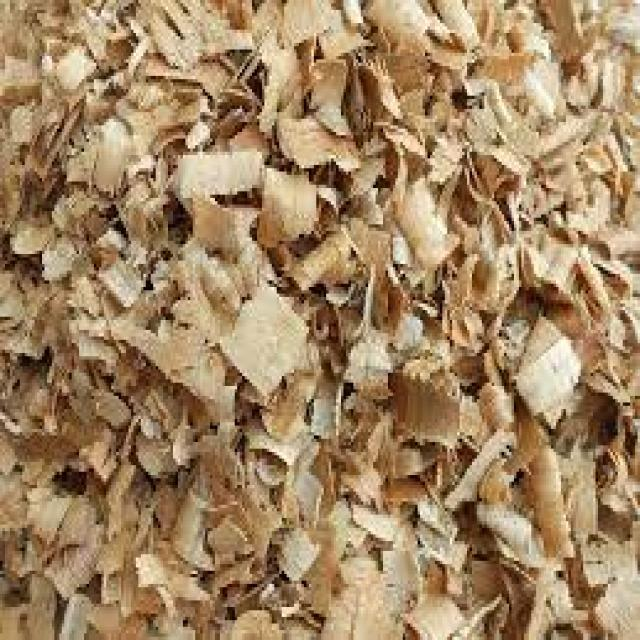green waste: (0, 12, 631, 622)
